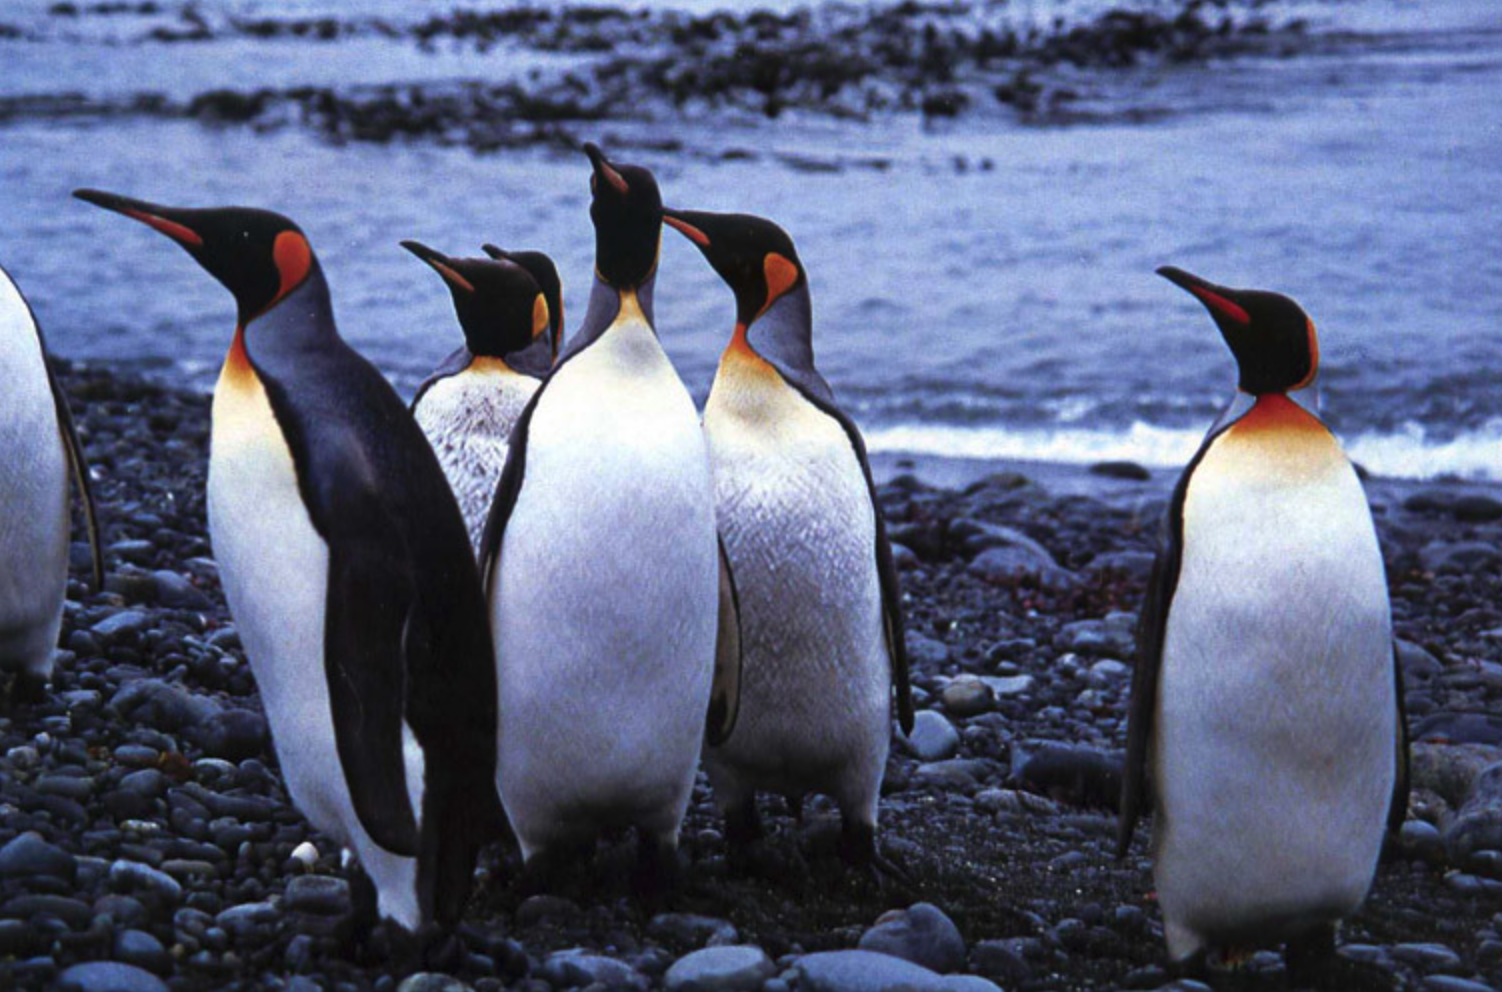penguin: (60, 180, 501, 965), (1128, 265, 1413, 974), (493, 141, 740, 909), (653, 207, 914, 896)
